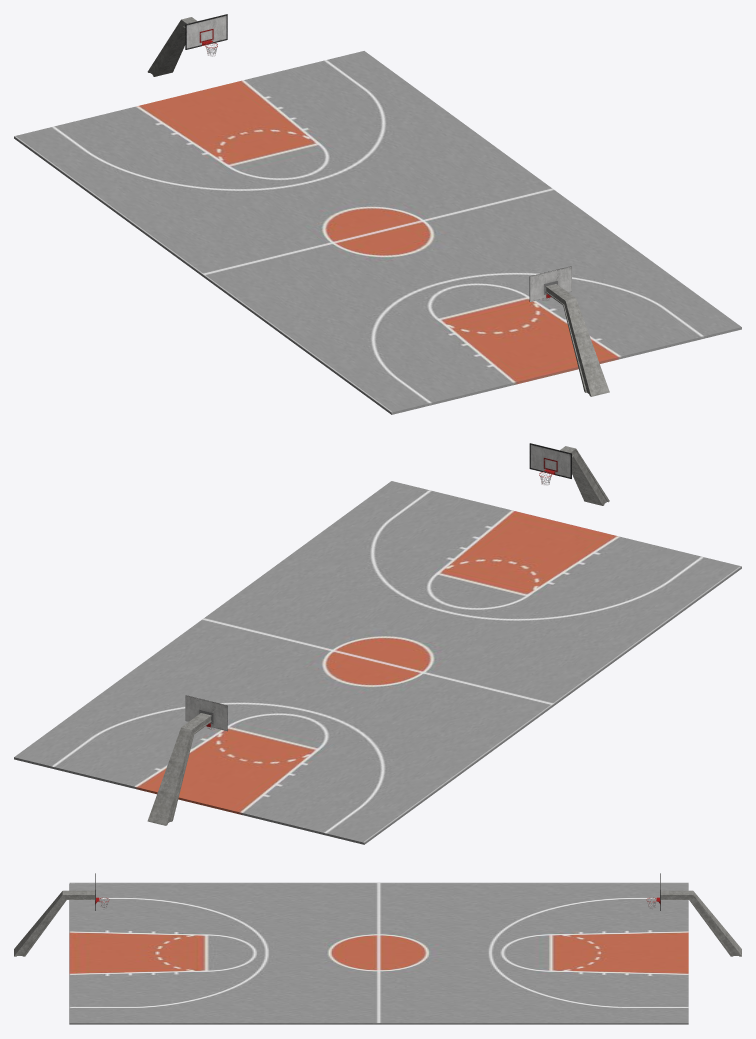
Rendered from basketCourt.glb.
The picture shows the model from 3 angles, top to bottom: view 1: azimuth 30°, elevation 25°; view 2: azimuth 150°, elevation 25°; view 3: azimuth 270°, elevation 25°; orthographic projection. The views are drawn at different scales.
Visible parts, largest first — view 1: Basketball, Basketball_Backboard, Basketball_Backboard.001; view 2: Basketball, Basketball_Backboard.001, Basketball_Backboard; view 3: Basketball, Basketball_Backboard, Basketball_Backboard.001.
Boxes of the visible parts, box(x1,y1,x2,y2) form: Basketball: box(14, 51, 741, 414); Basketball_Backboard: box(529, 266, 609, 396); Basketball_Backboard.001: box(147, 14, 227, 76); Basketball: box(14, 481, 741, 844); Basketball_Backboard.001: box(147, 695, 227, 825); Basketball_Backboard: box(529, 443, 609, 505); Basketball: box(69, 882, 688, 1024); Basketball_Backboard: box(14, 873, 95, 956); Basketball_Backboard.001: box(660, 873, 741, 956).
Bounding box in the file's own units: 15 × 3.65 × 32.92.
Materials: 3 (3 with a texture image).
